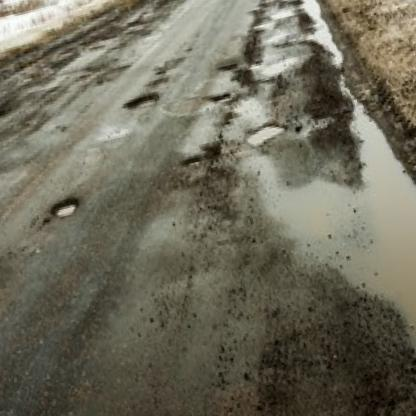pothole: (244, 120, 289, 149), (121, 89, 160, 115), (48, 194, 79, 218), (206, 88, 232, 105), (180, 152, 202, 170), (217, 62, 235, 74)
